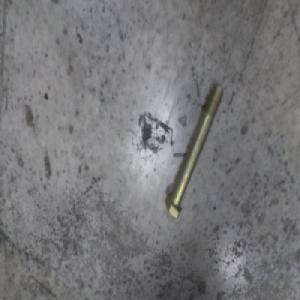Bolt: (163, 83, 221, 217)
